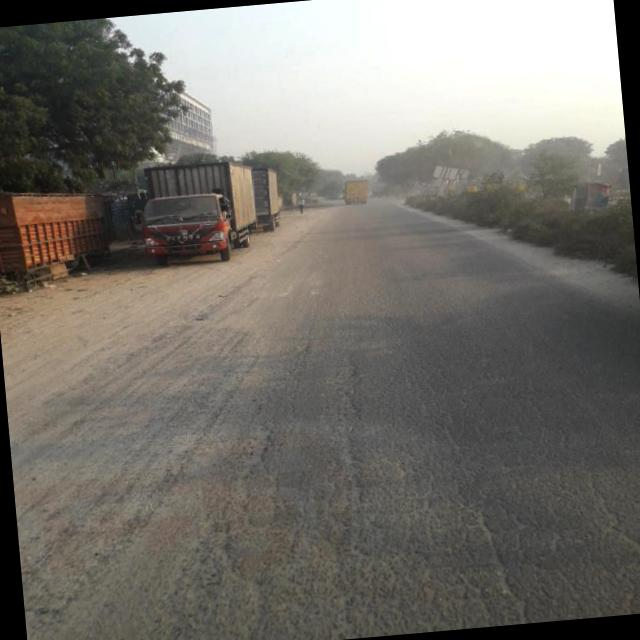crack: (61, 260, 640, 640), (157, 313, 334, 640), (312, 340, 412, 638), (539, 386, 640, 594), (445, 398, 530, 626)
